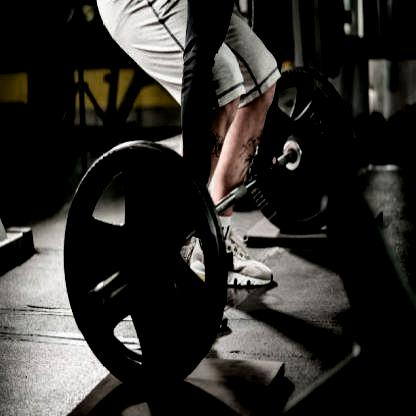Barbell: (81, 282, 108, 322)
